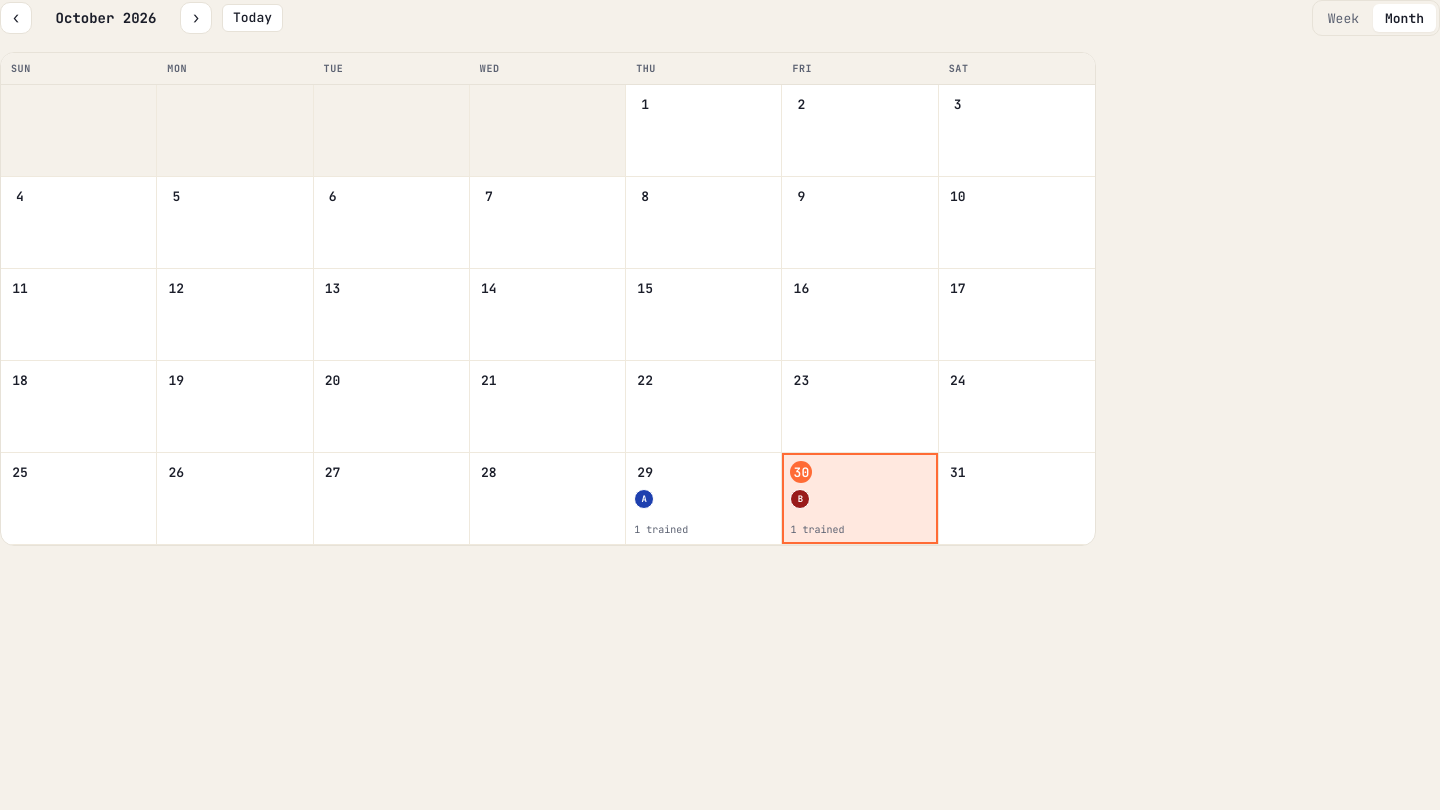
Test: SharedCalendar — phone › opens the day's list in a bottom sheet when a day is tapped
This screenshot has width=1440, height=810.
Expected: the element named "days" is shown, [0, 52, 1096, 546]
Step 1. Click the button "30 B 1 trained" → click(861, 499), box [782, 453, 939, 545]
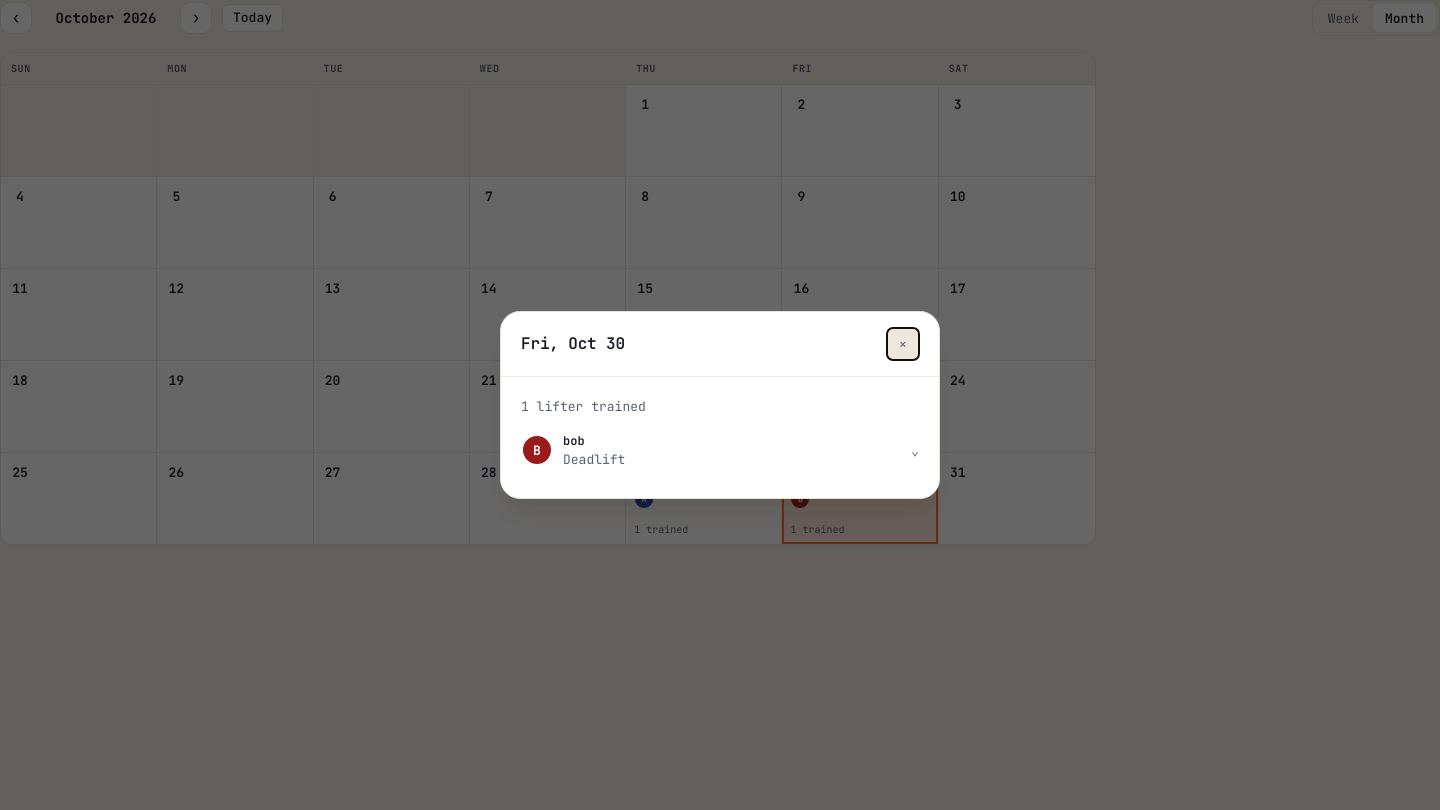
Now the text "bob" is shown, box [563, 433, 585, 449]
Step 2. Click the button named "close" → click(903, 344), box [887, 328, 919, 360]
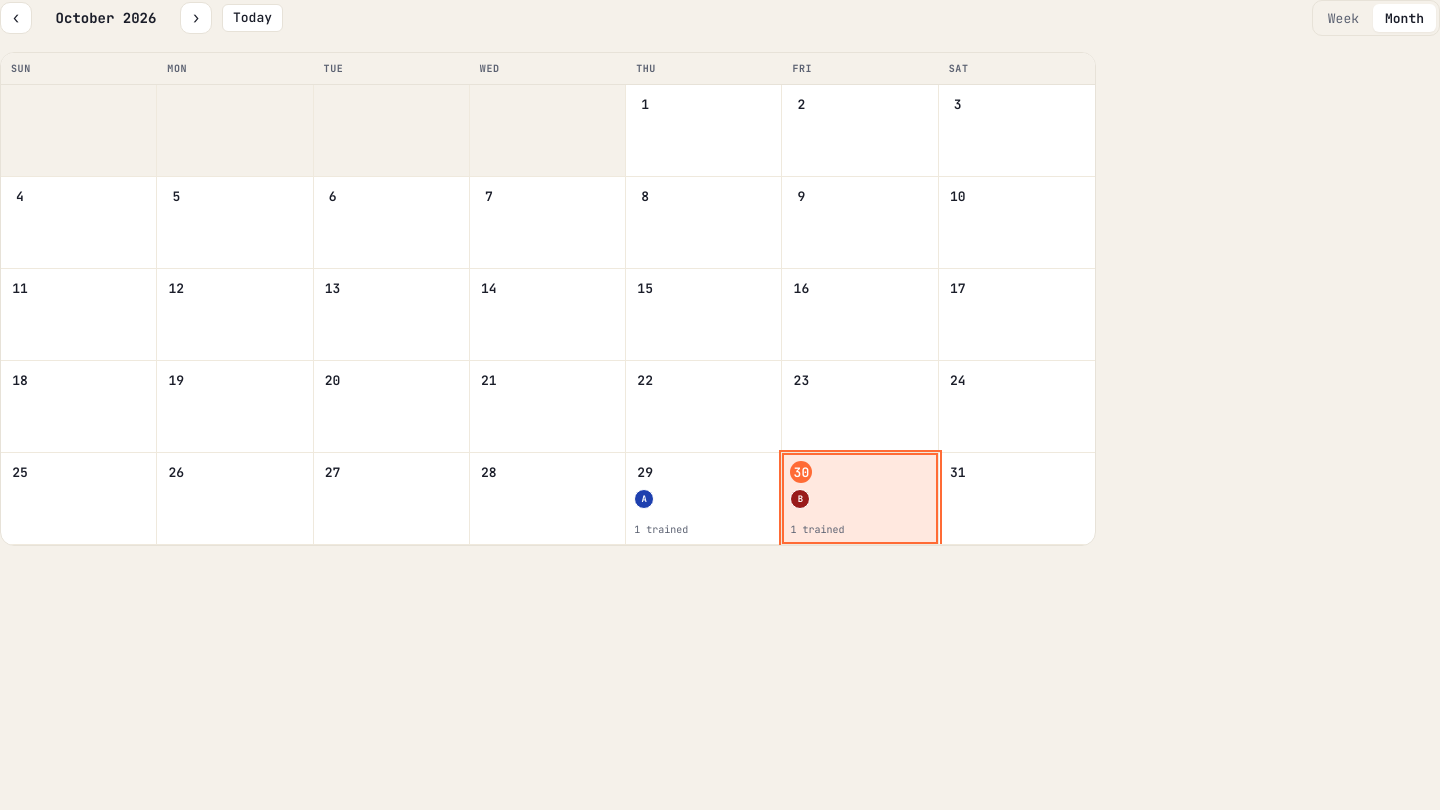
Now the dialog is gone
